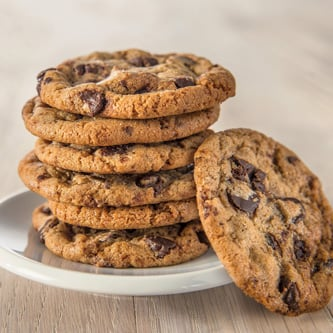salad: (193, 128, 333, 321)
